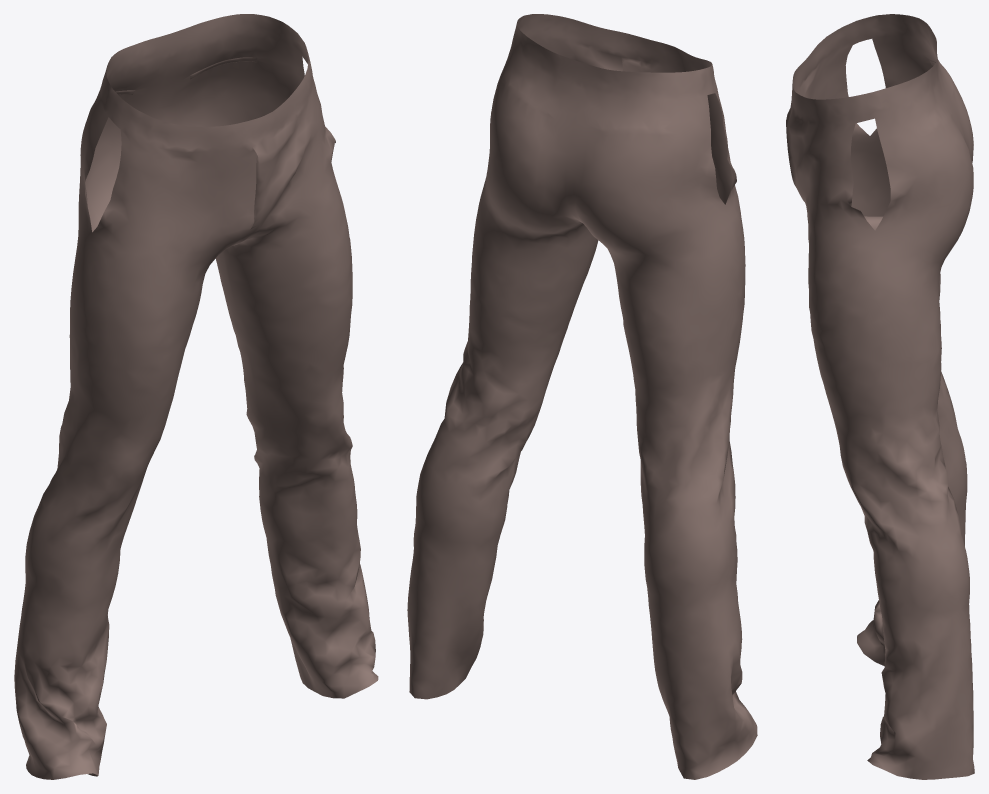
File: shtanidemo.glb
The picture shows the model from 3 angles, left to right: view 1: azimuth 30°, elevation 25°; view 2: azimuth 150°, elevation 25°; view 3: azimuth 270°, elevation 25°; orthographic projection. The views are drawn at different scales.
Parts seen in each view (by area): view 1: demoshtani; view 2: demoshtani; view 3: demoshtani.
Boxes of the visible parts, x1,y1,x2,y2 form: demoshtani: (14, 14, 378, 779); demoshtani: (407, 14, 757, 779); demoshtani: (786, 14, 974, 779).
Bounding box in the file's own units: 0.5598 × 1.12 × 0.2801.
